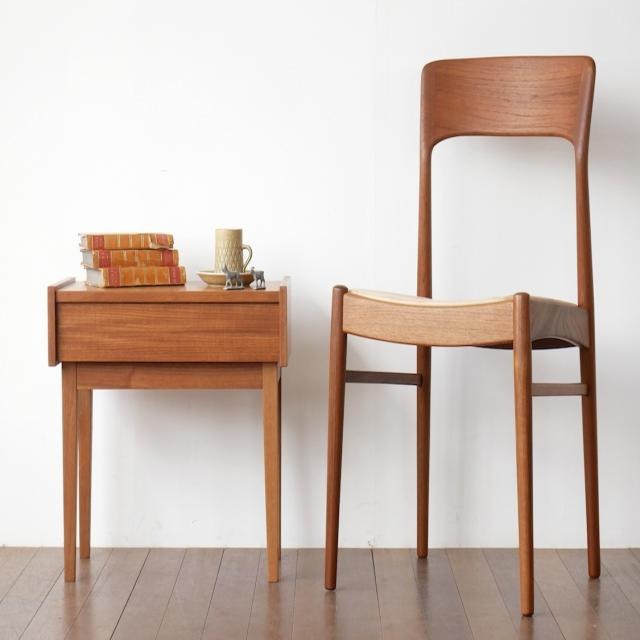chair vintage: (320, 48, 609, 622)
